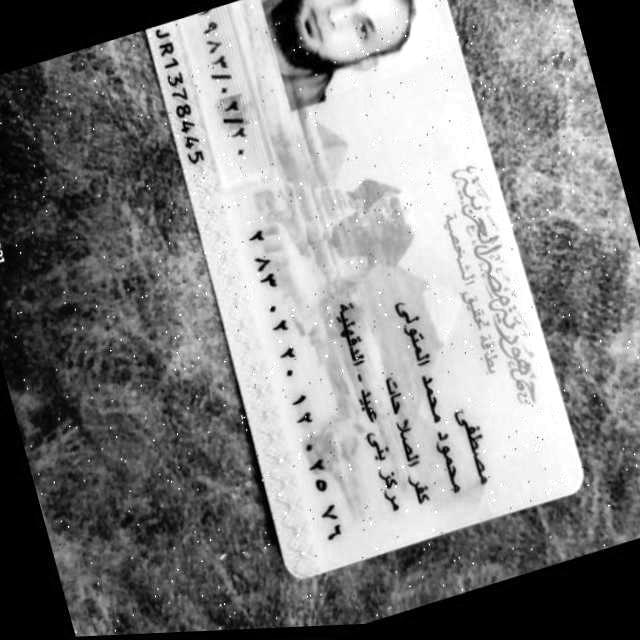front: (147, 0, 582, 578)
